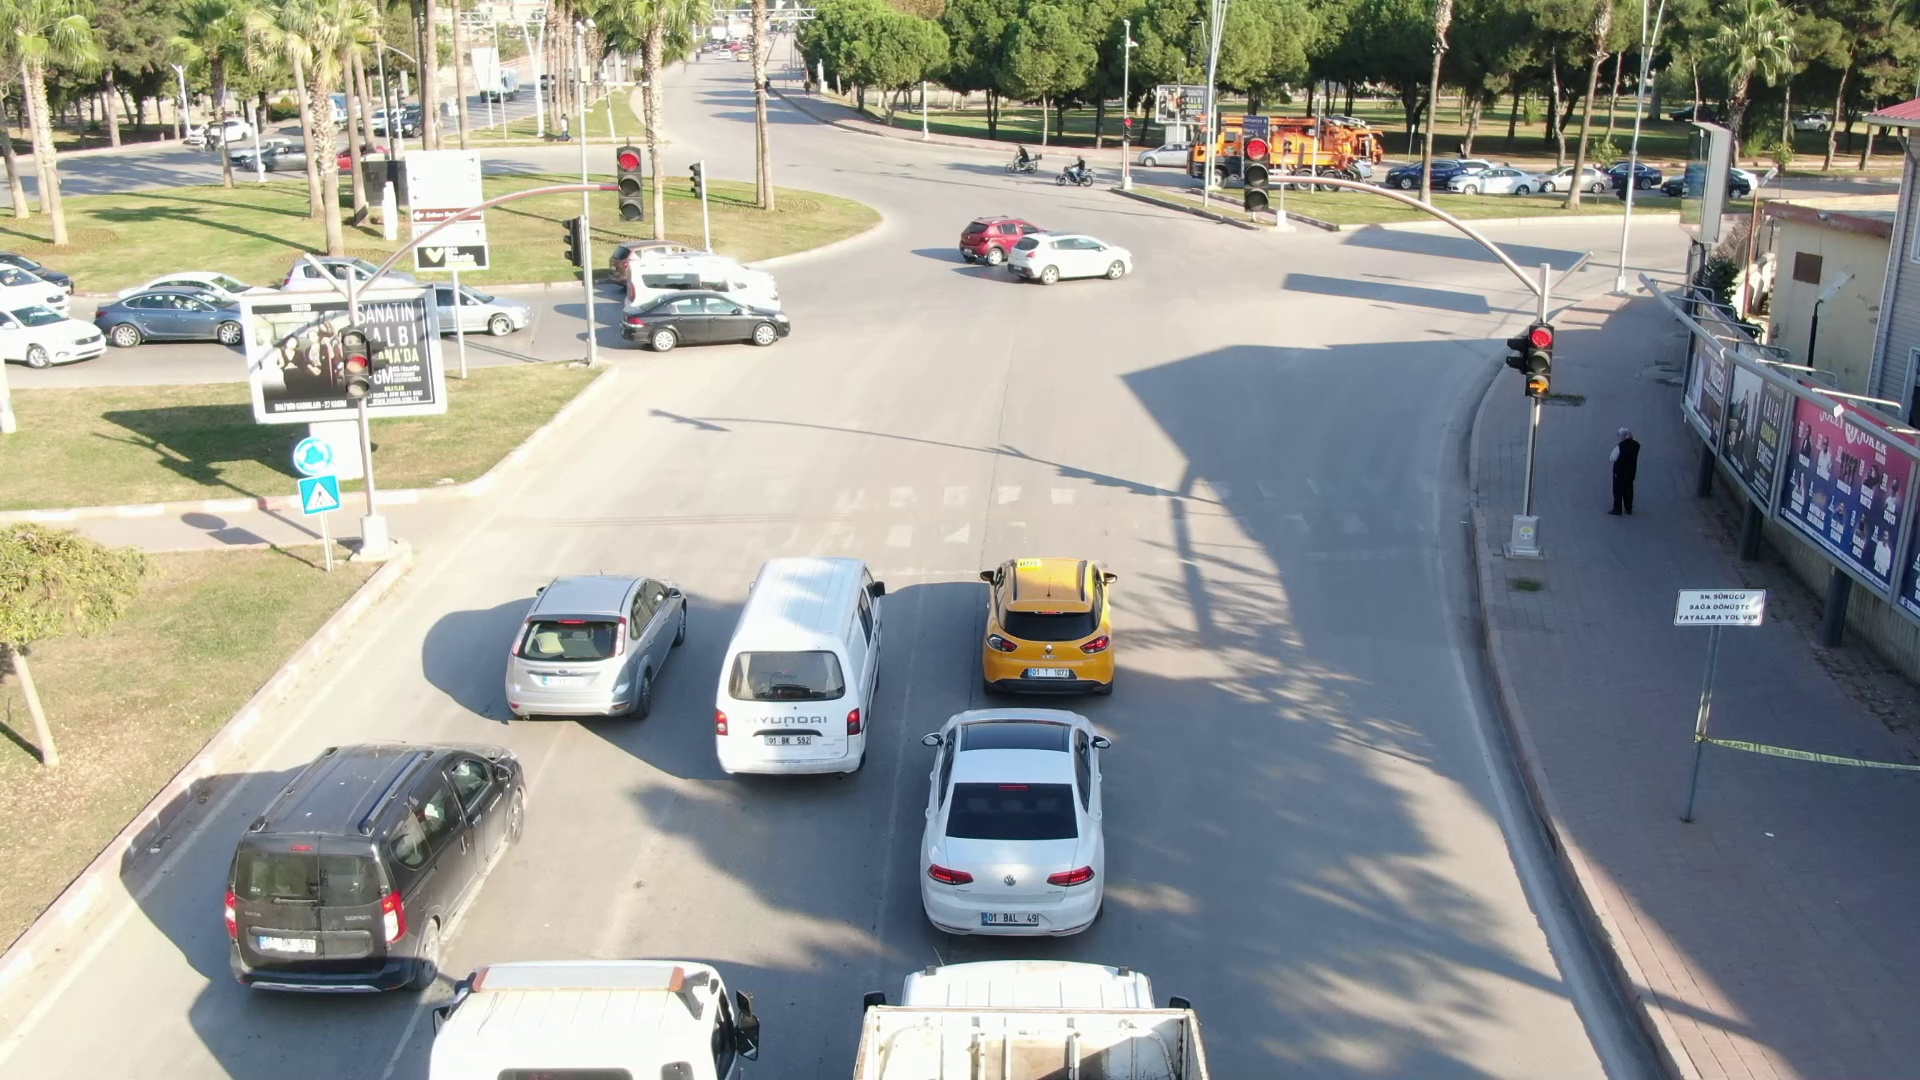car: (210, 749, 543, 1008), (912, 700, 1127, 947), (694, 549, 894, 794), (494, 559, 688, 733), (957, 543, 1133, 702), (615, 288, 794, 357), (998, 227, 1147, 290)
person: (1604, 415, 1647, 523)
